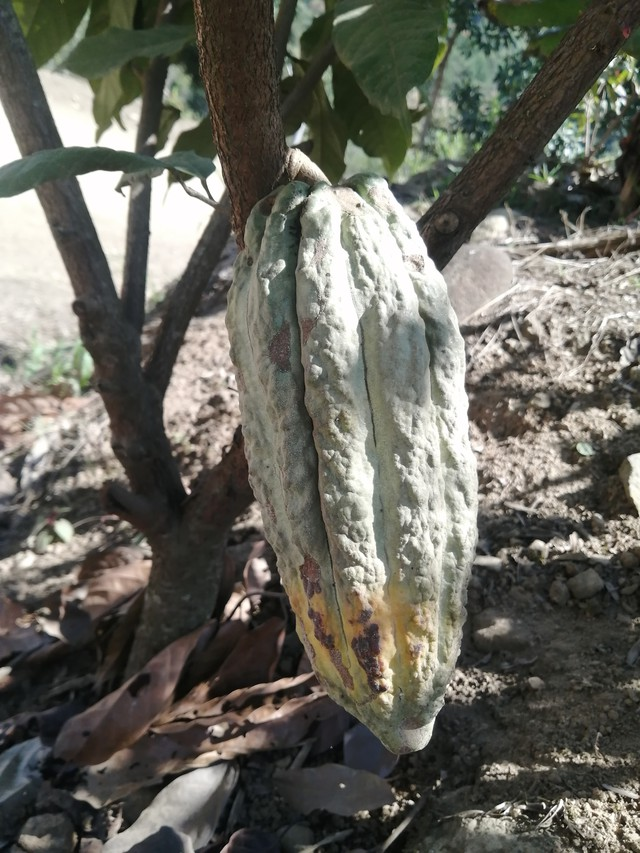moniliophthora perniciosa: (212, 148, 485, 764)
